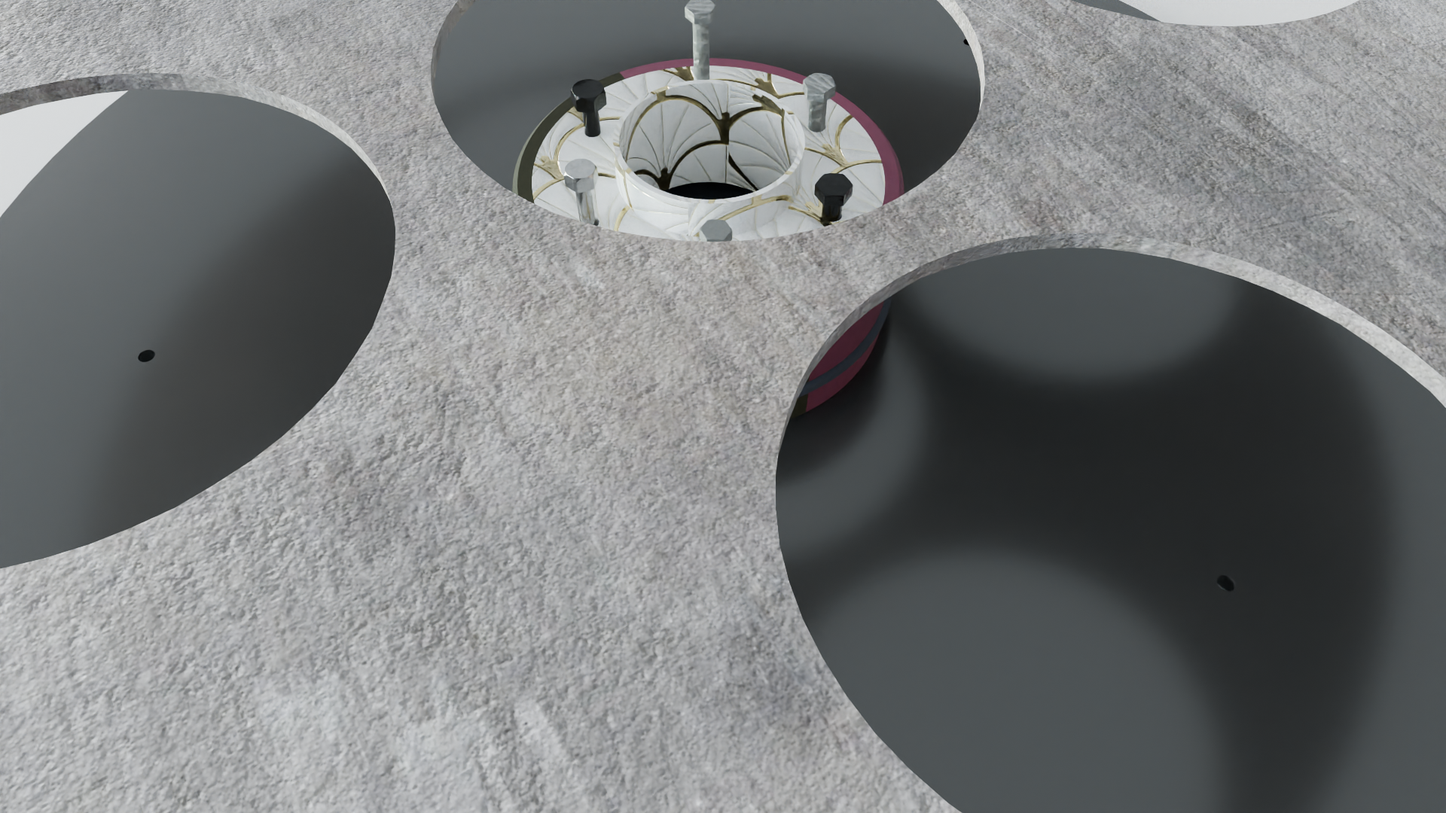bolt: (815, 173, 853, 196), (571, 79, 606, 102), (564, 159, 596, 183), (700, 219, 732, 241), (804, 73, 836, 93), (685, 0, 716, 14)
